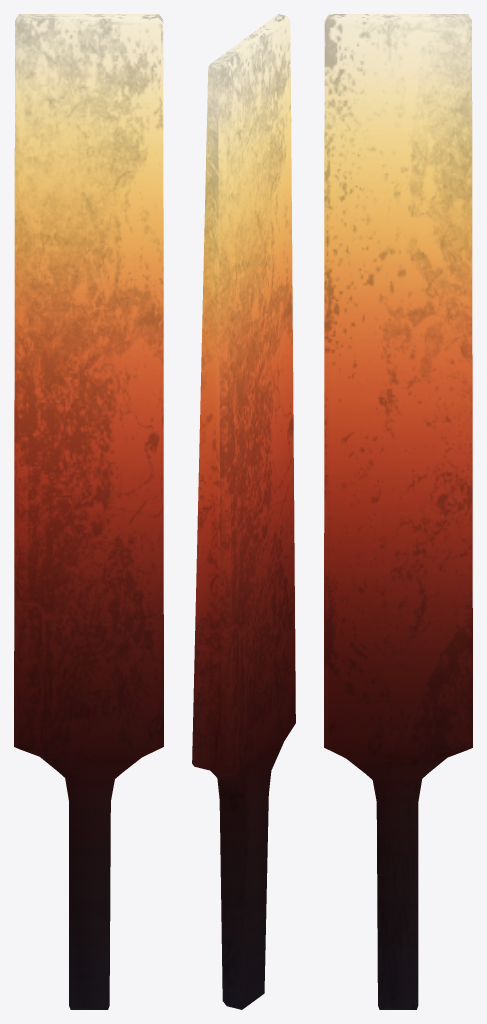
The model's file is SM_Forge_Forgemaster_Ironbar.FBX.
3 renders of one model, left to right at view 1: azimuth 90°, elevation 25°; view 2: azimuth 150°, elevation 25°; view 3: azimuth 270°, elevation 25°, orthographic. The views are drawn at different scales.
Visible parts, largest first — view 1: SM_Forge_Forgemaster_Ironbar; view 2: SM_Forge_Forgemaster_Ironbar; view 3: SM_Forge_Forgemaster_Ironbar.
Part boxes in pixels (x1,y1,x2,y2): SM_Forge_Forgemaster_Ironbar: (14, 14, 163, 1009); SM_Forge_Forgemaster_Ironbar: (192, 14, 295, 1009); SM_Forge_Forgemaster_Ironbar: (324, 14, 472, 1009).
Size of the model in its own units: 4.65 by 15.89 by 116.
